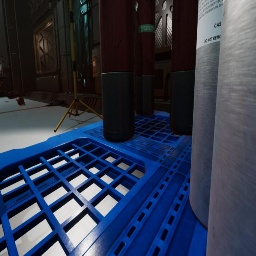0: (206, 0, 256, 256), (189, 0, 223, 230)
EmergencyPhone ,: (60, 69, 63, 78)
FireExtinguisher ]: (16, 97, 25, 105)
NitrogenTank ,: (99, 0, 135, 143), (169, 0, 198, 135), (134, 0, 156, 116), (7, 90, 18, 99)
SafetySwitchPanel ,: (92, 48, 100, 77)
